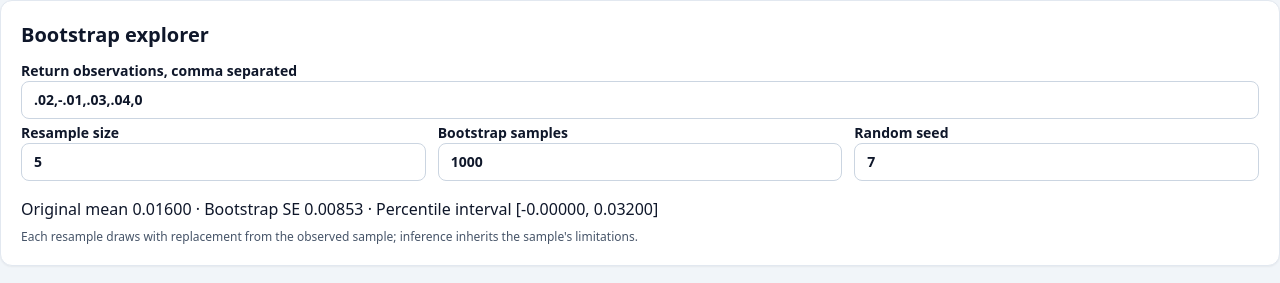
Scenario: v1.6 learning tools › validates malformed bootstrap data
Replace the text in the field labelled "Return observations, comma separated" with "1,bad" at (640, 100), box [21,81,1259,119]
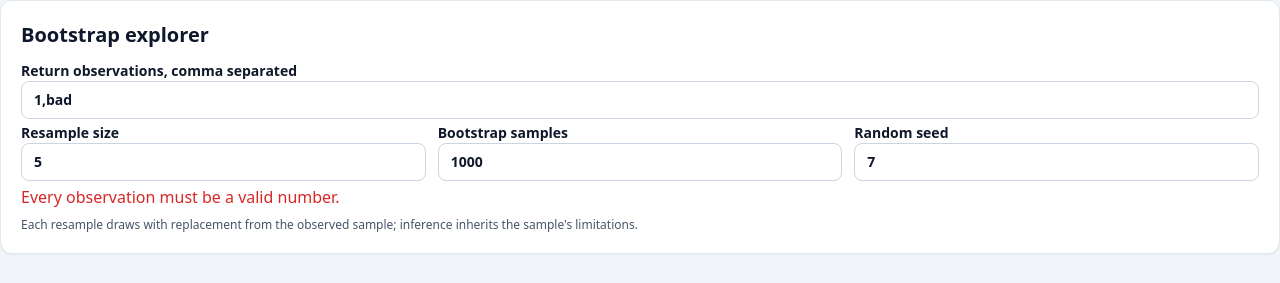
Result: the message "Every observation must be a valid number." is shown at [21,186,339,208]
